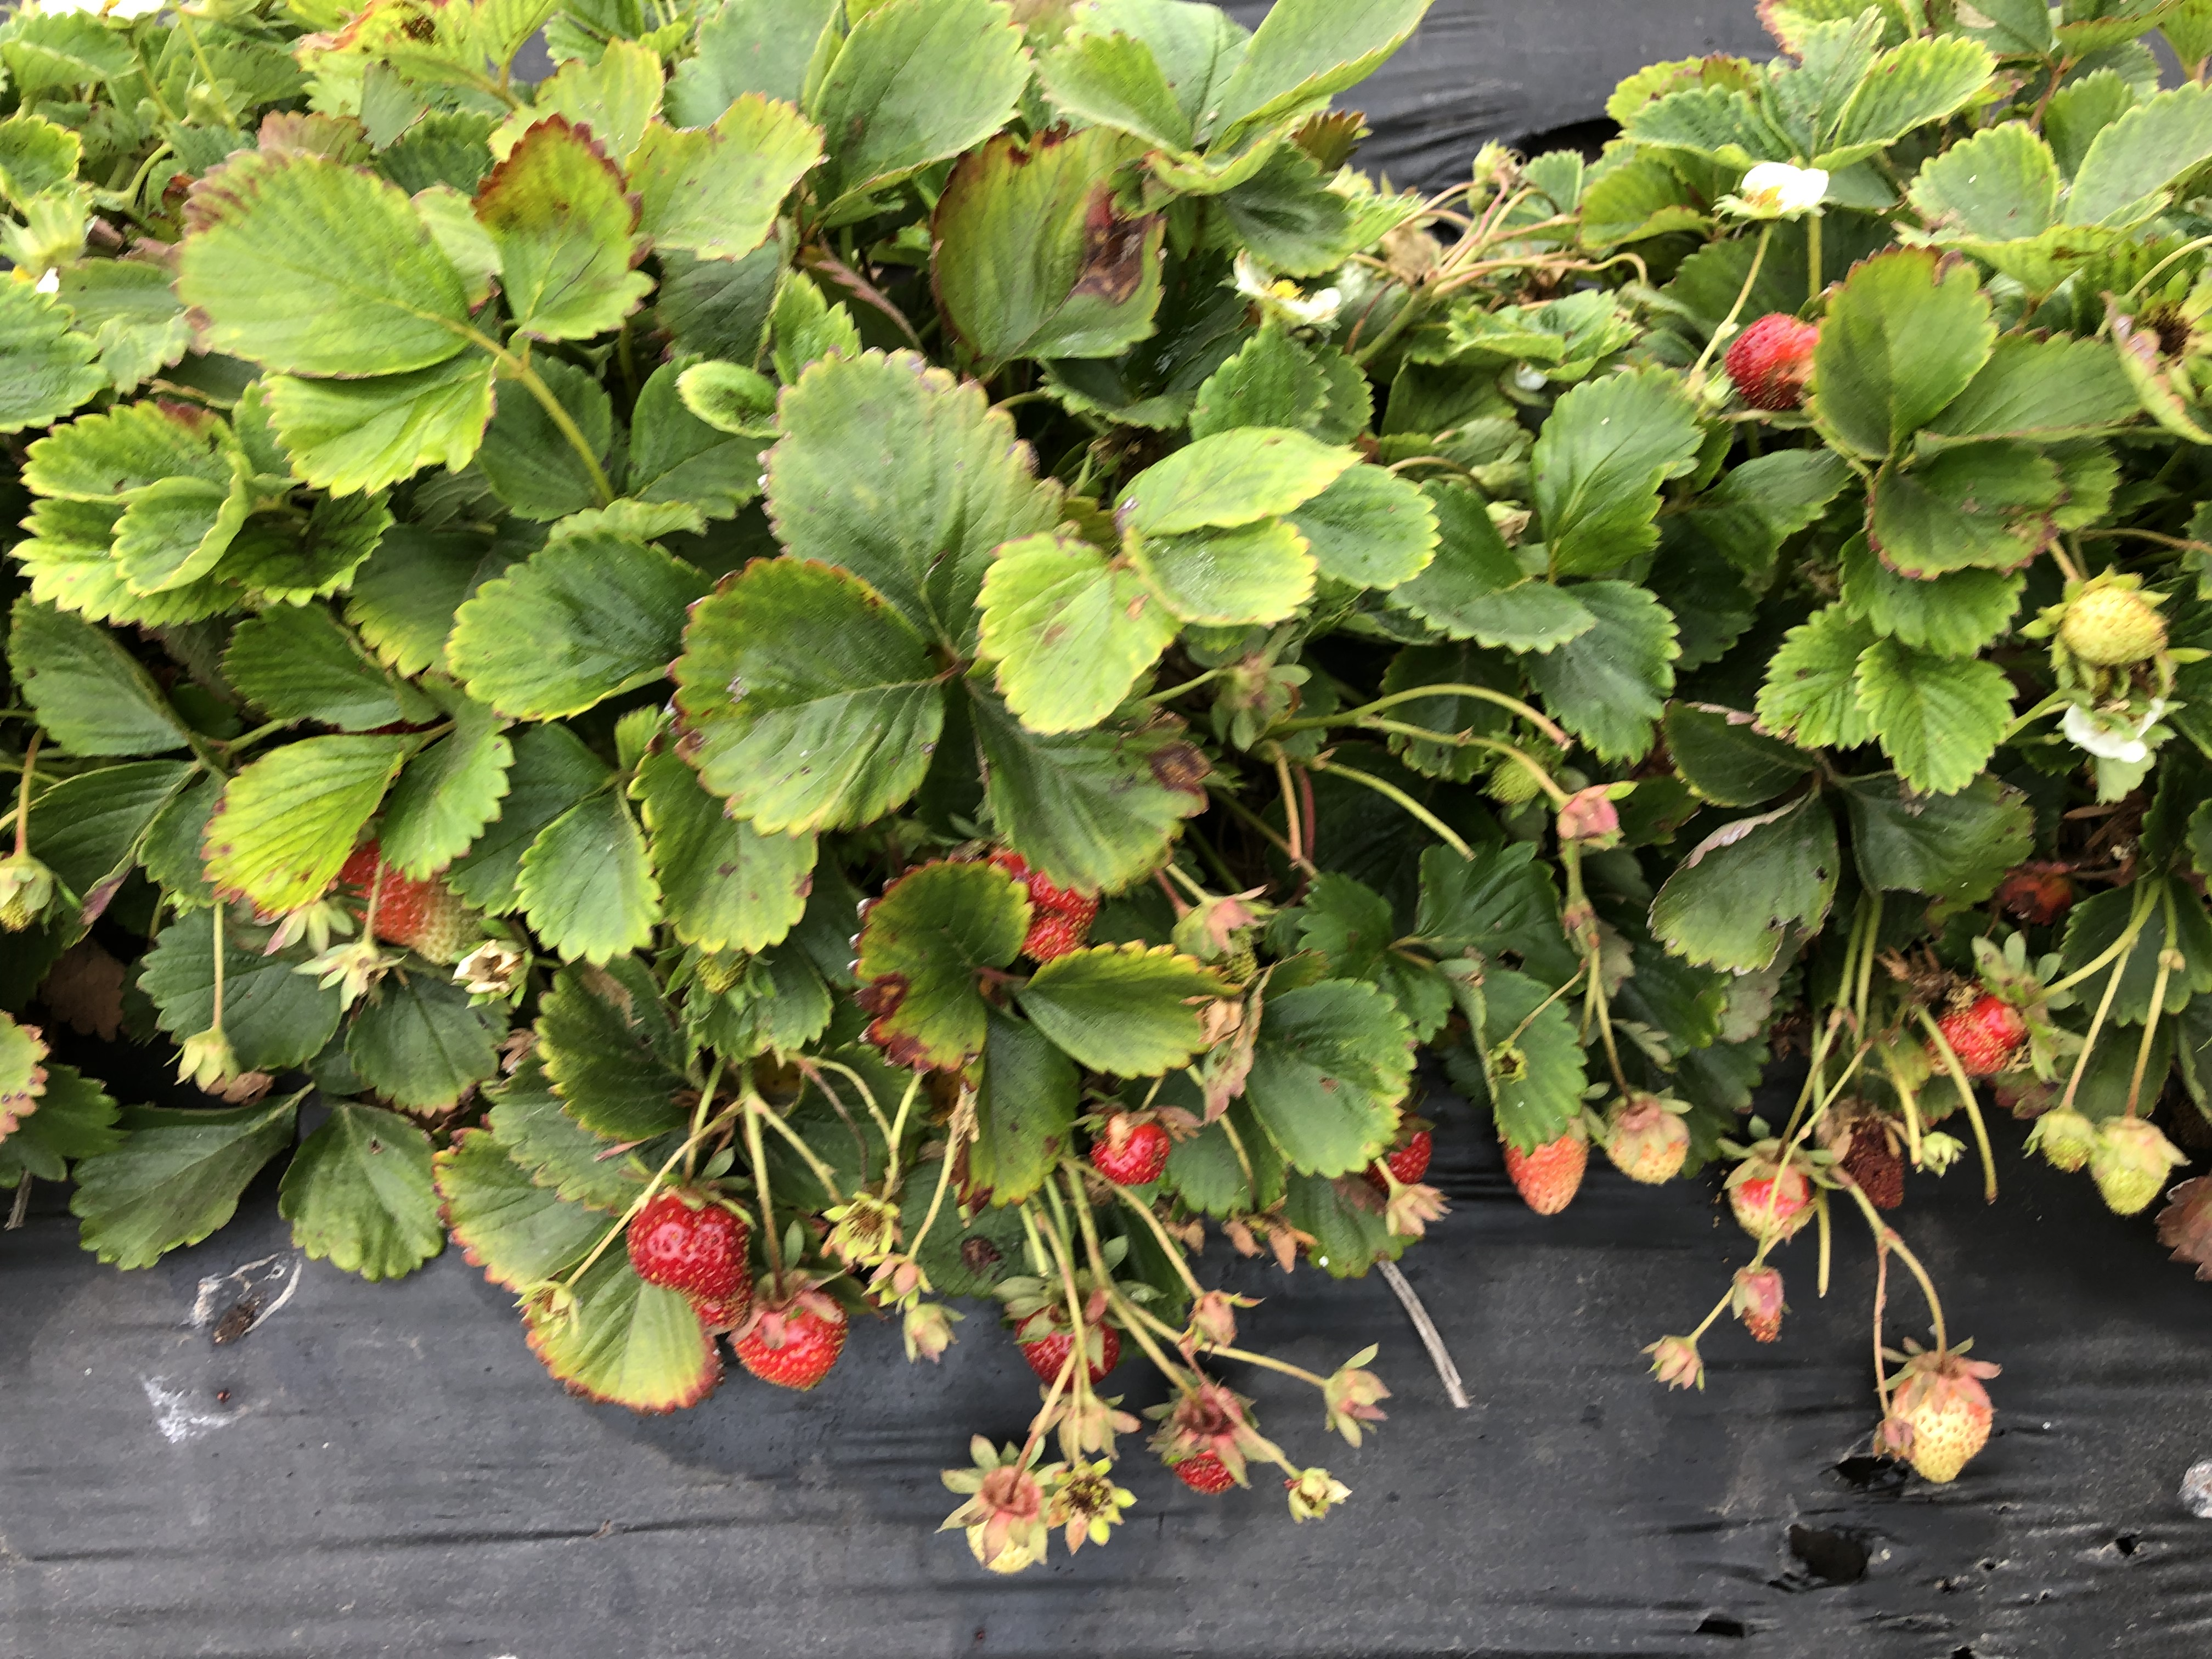ripe_strawberry: (624, 1187, 759, 1340), (981, 833, 1103, 969), (1923, 972, 2048, 1080), (738, 1272, 850, 1392), (1721, 308, 1824, 416), (1014, 1288, 1127, 1385), (1160, 1389, 1259, 1499), (1822, 1098, 1916, 1208), (1087, 1112, 1179, 1190), (1364, 1110, 1437, 1192)
unripe_strawberry: (340, 838, 484, 964), (1886, 1351, 1998, 1483), (1500, 1101, 1590, 1216), (2057, 579, 2172, 667), (960, 1476, 1055, 1579), (1726, 1140, 1817, 1243), (1602, 1094, 1695, 1188), (2095, 1115, 2174, 1220), (1731, 1260, 1792, 1349), (2036, 1108, 2094, 1173)
